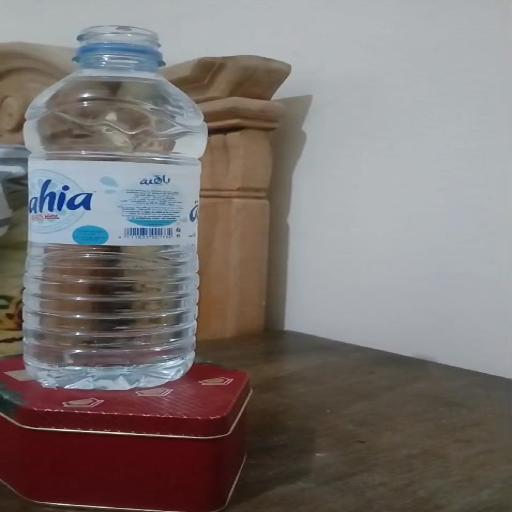bouteille non conformite: (30, 12, 207, 396), (52, 26, 194, 75)
